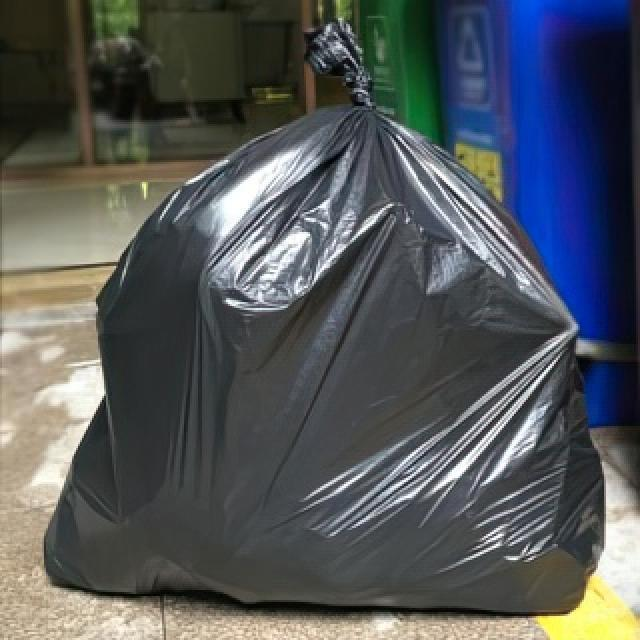Trashbag: (41, 10, 616, 618)
